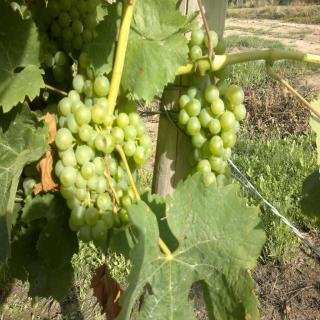Grape: (37, 0, 154, 249), (178, 27, 248, 185)
